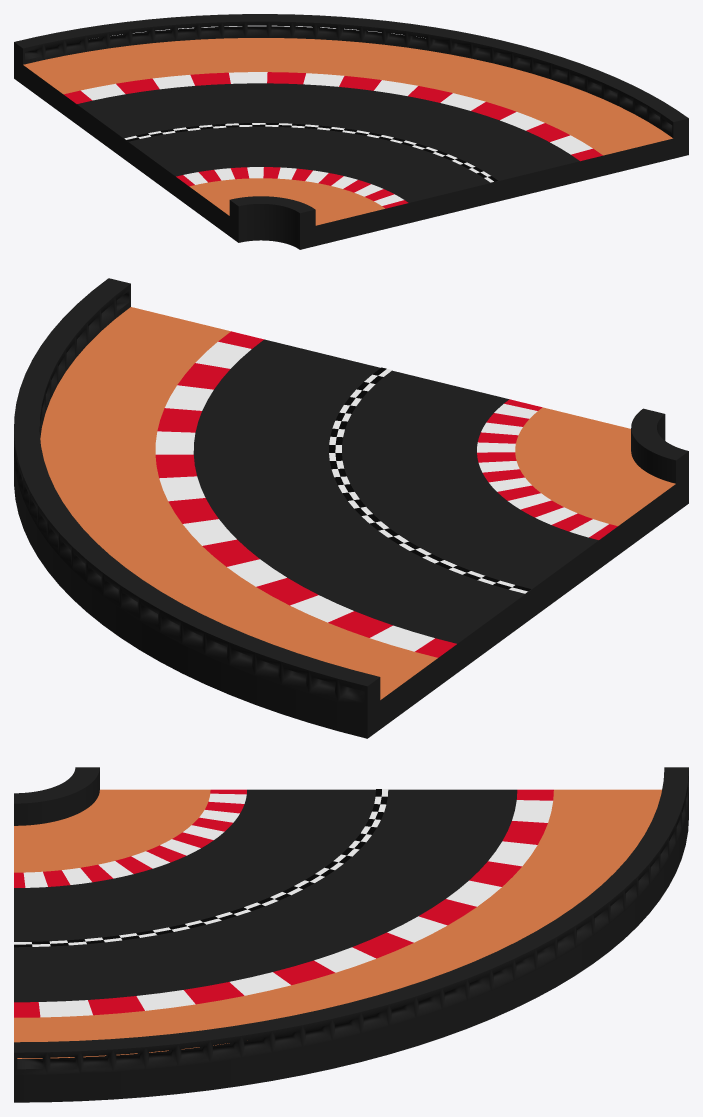
The model's file is ModularTrackCurveSmall.fbx.
3 renders of one model, top to bottom at view 1: azimuth 30°, elevation 25°; view 2: azimuth 150°, elevation 25°; view 3: azimuth 270°, elevation 25°, orthographic. The views are drawn at different scales.
Visible parts, largest first — view 1: ModularTrackCurveLeft, LaneDivider; view 2: ModularTrackCurveLeft, LaneDivider; view 3: ModularTrackCurveLeft, LaneDivider.
Boxes of the visible parts, <box> form: ModularTrackCurveLeft: <box>14,14,688,249</box>; LaneDivider: <box>124,123,497,182</box>; ModularTrackCurveLeft: <box>14,278,688,738</box>; LaneDivider: <box>329,367,530,593</box>; ModularTrackCurveLeft: <box>14,767,688,1102</box>; LaneDivider: <box>14,789,388,947</box>.
Bounding box in the file's own units: 1100 × 90 × 1100.
